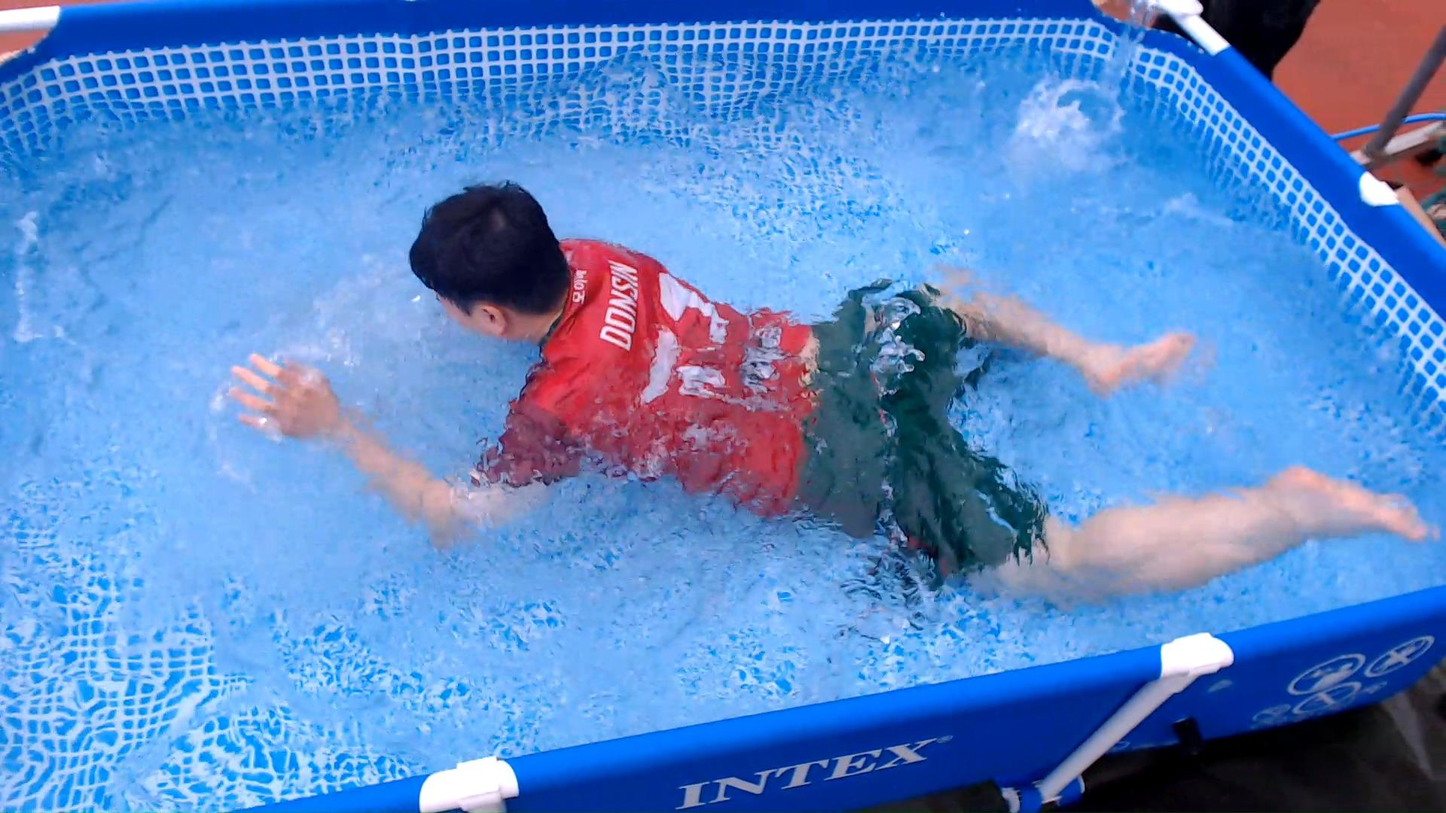Drowning: (124, 104, 1398, 604)
